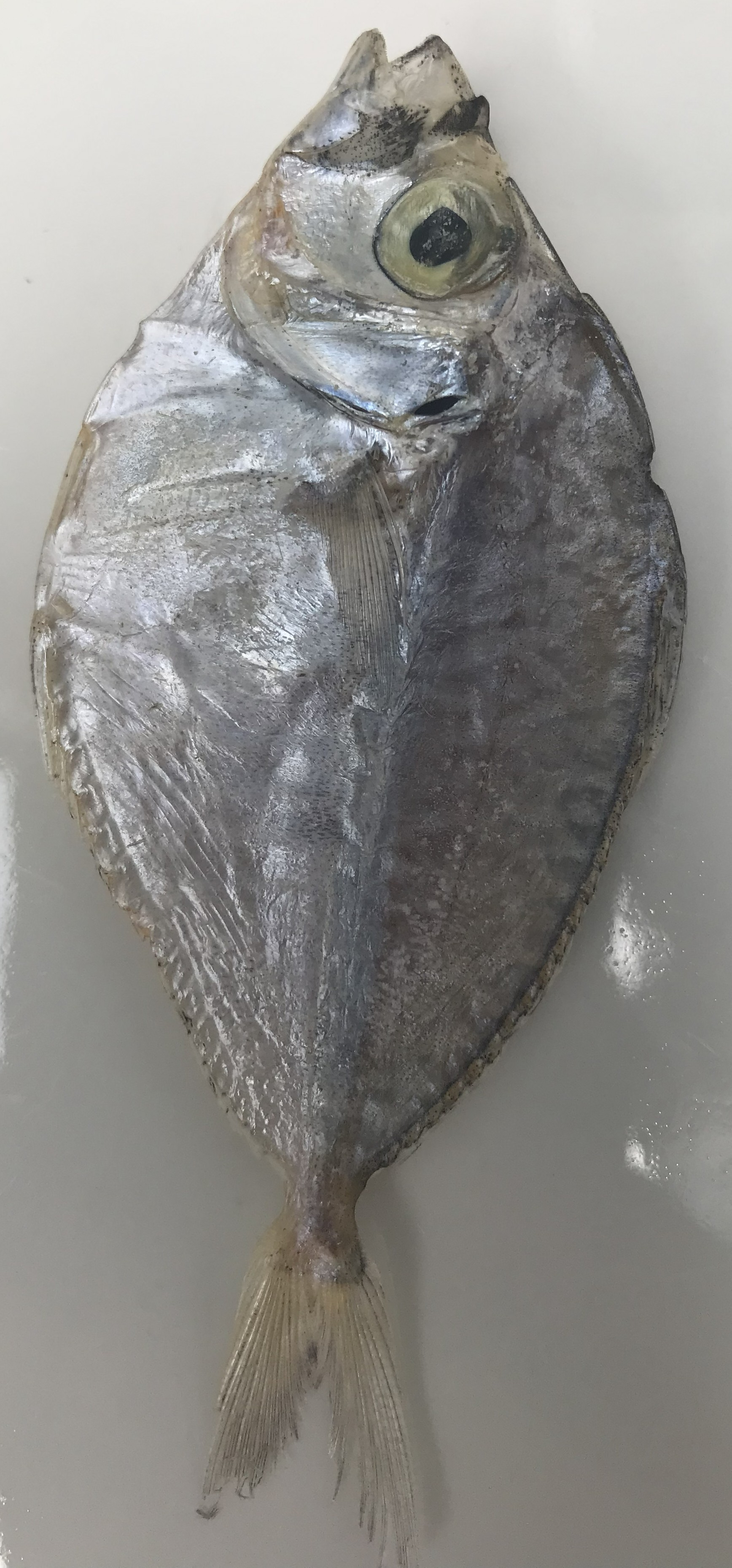sap_sap_dried: (0, 0, 732, 1069), (173, 864, 296, 1145), (0, 1472, 70, 1568), (607, 893, 666, 993), (627, 1140, 681, 1179), (262, 843, 305, 880), (277, 743, 307, 782)
